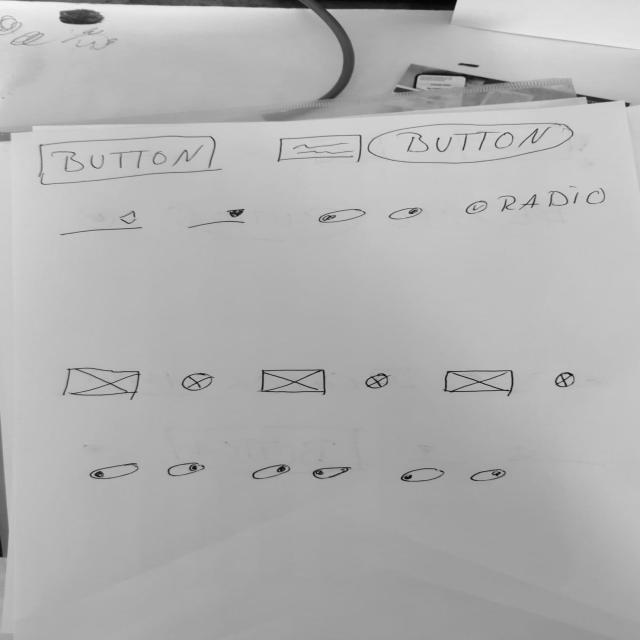button: (35, 132, 222, 188), (368, 121, 579, 167)
image: (61, 367, 143, 399), (442, 370, 517, 396), (260, 369, 329, 396), (180, 373, 218, 394), (363, 373, 393, 392), (553, 372, 579, 391)
number-input: (58, 211, 145, 238)
radio: (464, 182, 614, 217)
slider: (183, 205, 253, 232)
textarea: (275, 134, 366, 165)
toggle: (87, 462, 142, 482), (316, 208, 369, 227), (249, 463, 295, 482), (399, 468, 450, 484), (386, 206, 428, 223), (166, 463, 209, 479), (310, 466, 353, 482), (468, 469, 510, 484)
